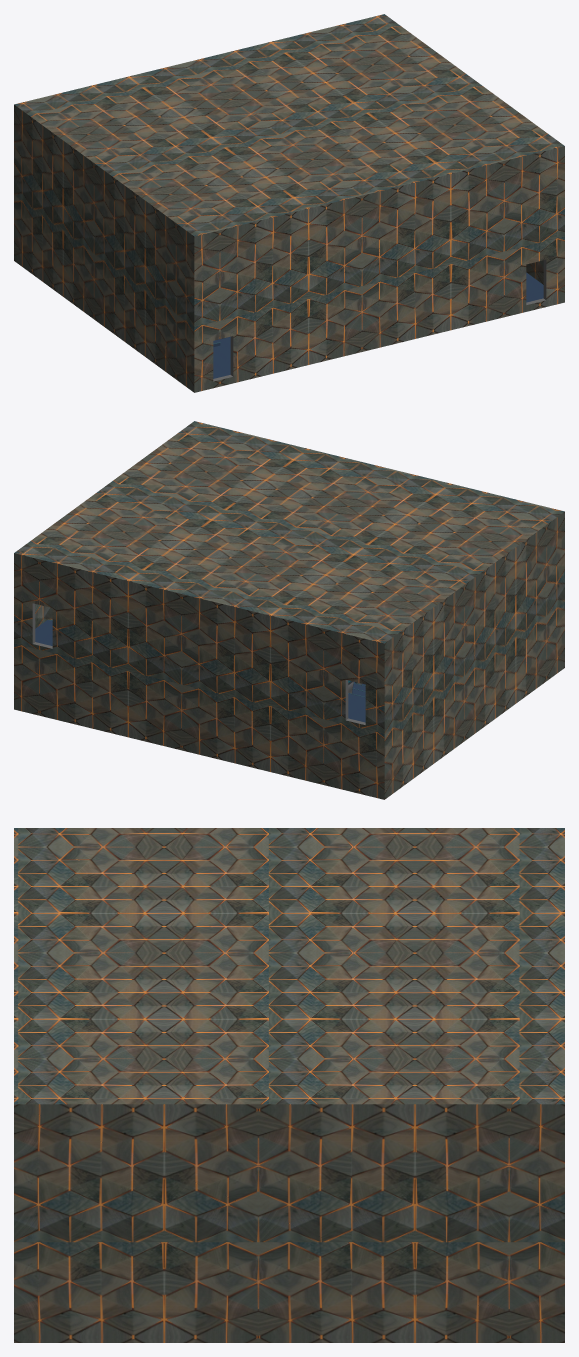
File: CinemaHall07.FBX
3 renders of one model, top to bottom at view 1: azimuth 30°, elevation 25°; view 2: azimuth 150°, elevation 25°; view 3: azimuth 270°, elevation 25°, orthographic. The views are drawn at different scales.
Parts seen in each view (by area): view 1: Cinema07Wall, Cinema07Floor; view 2: Cinema07Wall, Cinema07Floor; view 3: Cinema07Wall.
Part boxes in pixels (x1,y1,x2,y2): Cinema07Wall: (14, 14, 564, 392); Cinema07Floor: (213, 272, 543, 378); Cinema07Wall: (14, 421, 564, 799); Cinema07Floor: (35, 619, 365, 722); Cinema07Wall: (14, 828, 564, 1342).
Size of the model in its own units: 2095 by 845 by 1767.
